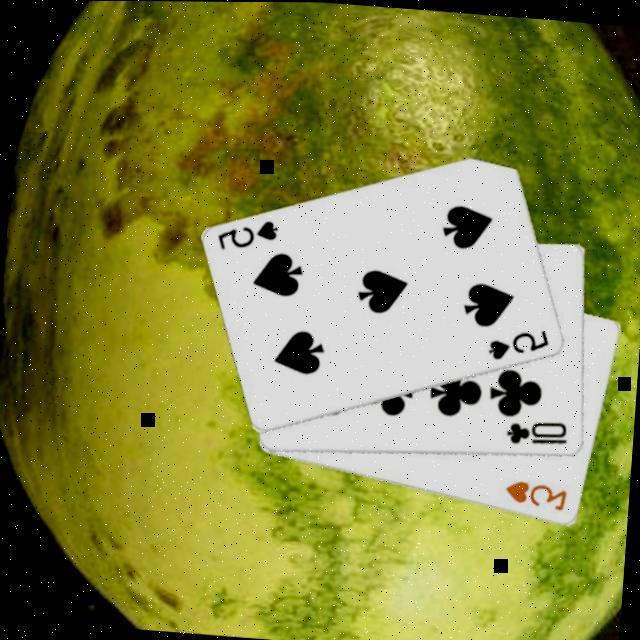10C: (504, 416, 573, 452)
3H: (502, 477, 572, 515)
5S: (486, 324, 554, 367), (215, 215, 283, 258)
